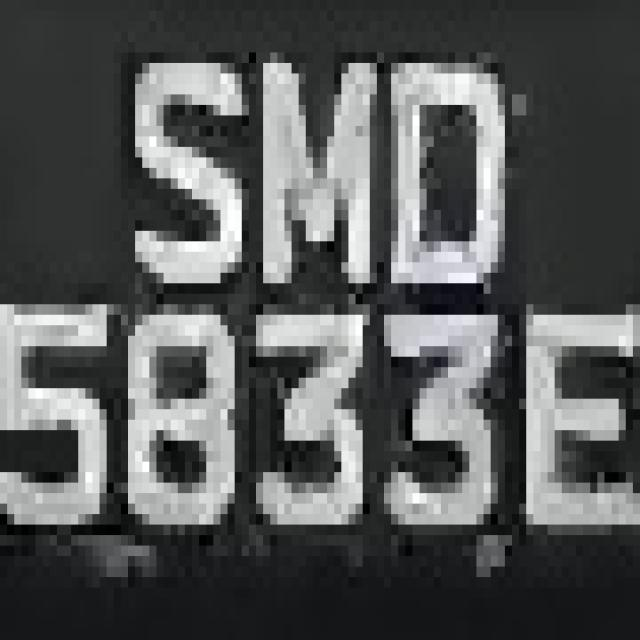3: (228, 262, 362, 546), (384, 283, 498, 577)
5: (0, 262, 128, 567)
8: (113, 283, 234, 546)
D: (370, 63, 498, 294)
E: (512, 283, 640, 556)
M: (242, 42, 384, 304)
S: (106, 10, 242, 284)
